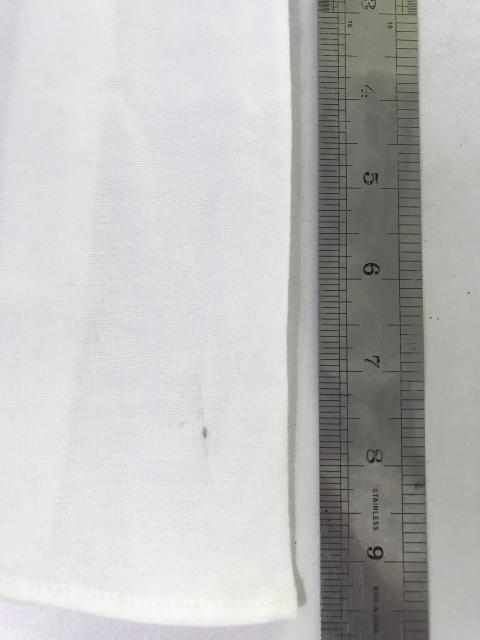Dirty_mark: (175, 376, 212, 464)
